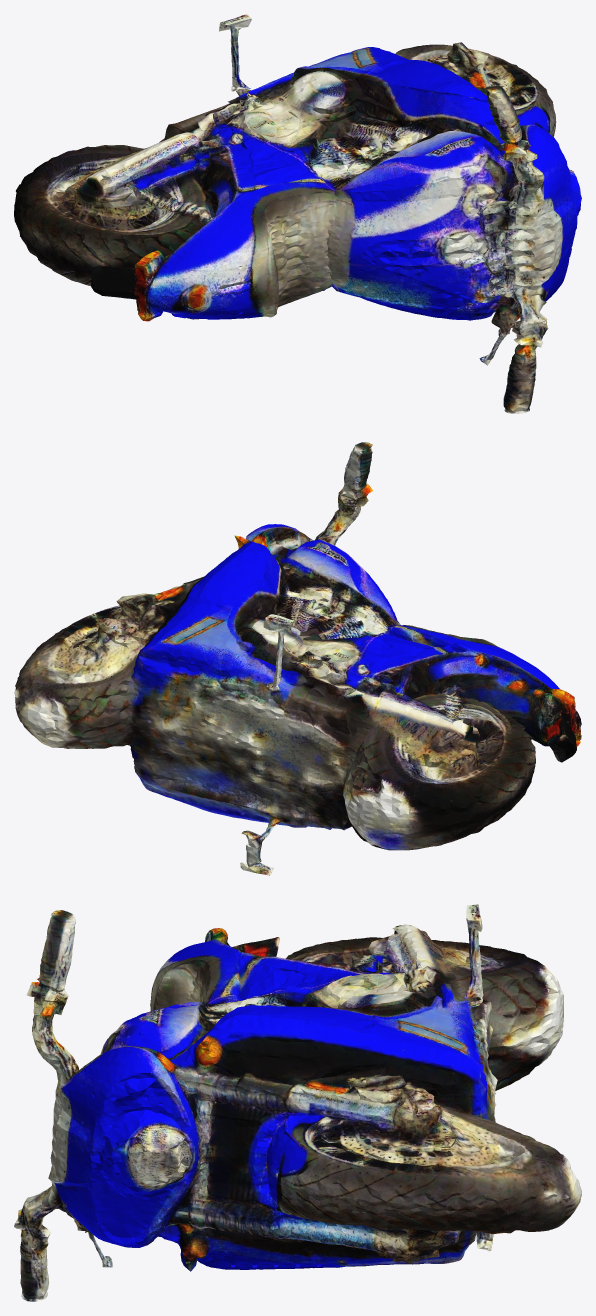
3 renders of one model, top to bottom at view 1: azimuth 30°, elevation 25°; view 2: azimuth 150°, elevation 25°; view 3: azimuth 270°, elevation 25°, orthographic. The views are drawn at different scales.
Visible parts, largest first — view 1: object; view 2: object; view 3: object.
Part boxes in pixels (<box>): object: <box>14,14,581,413</box>; object: <box>14,442,581,875</box>; object: <box>14,904,581,1301</box>.
Bounding box in the file's own units: 1.6 × 0.9592 × 1.32.
Materials: 1 (1 with a texture image).
